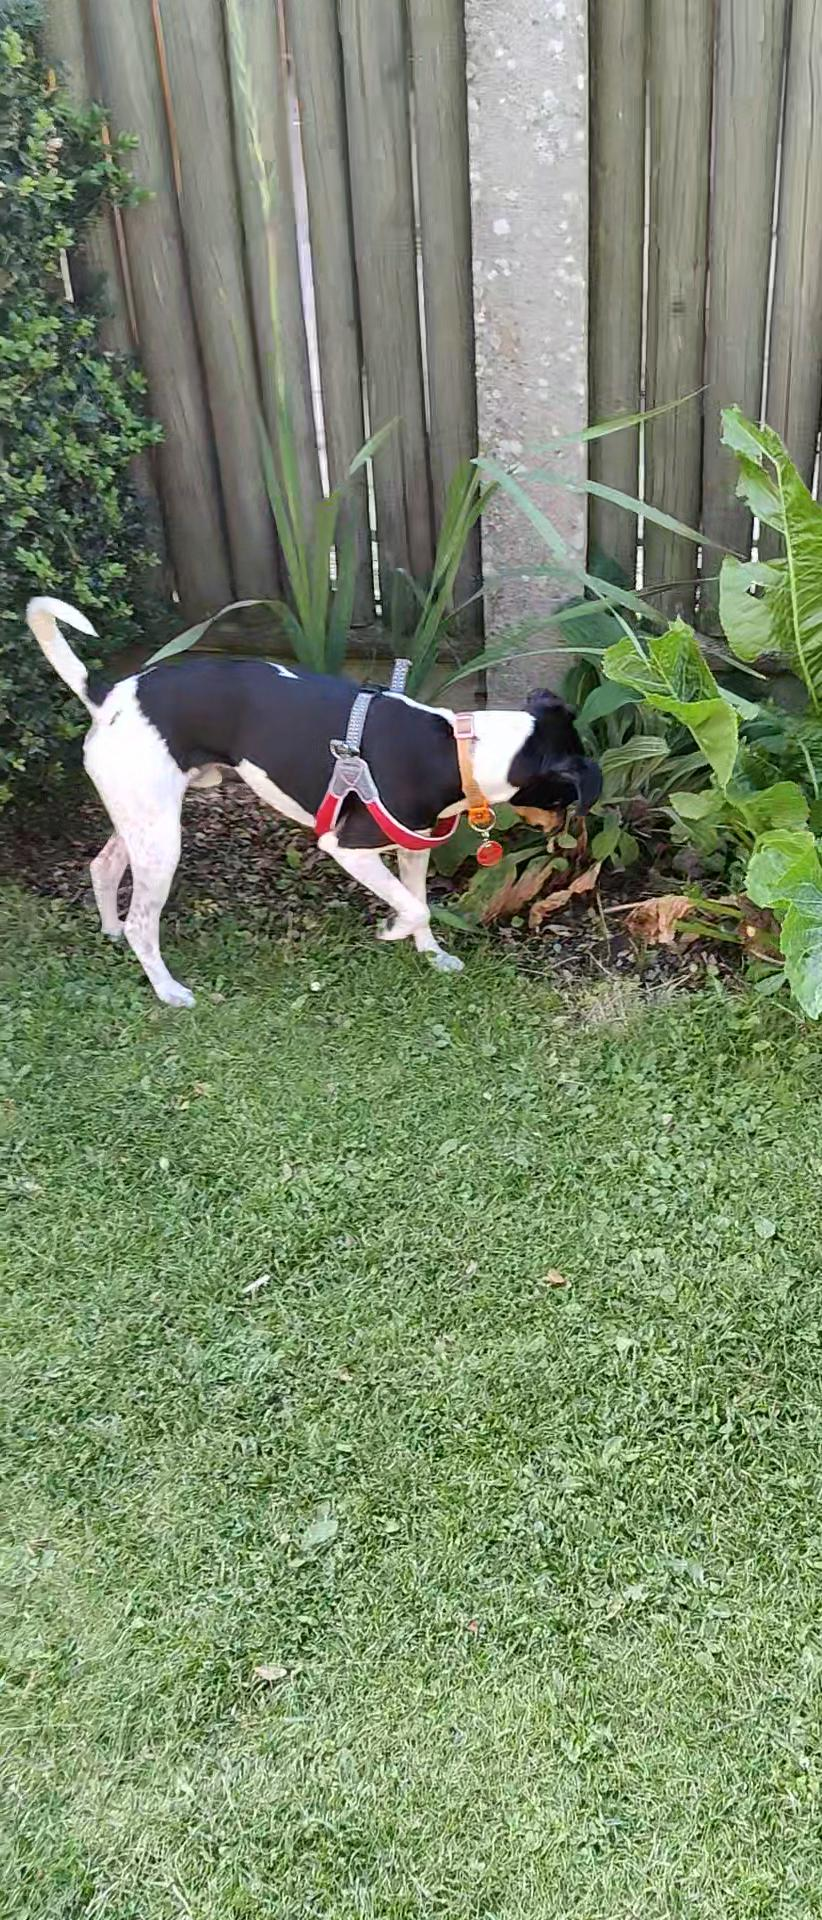Dog: (20, 579, 616, 1029)
